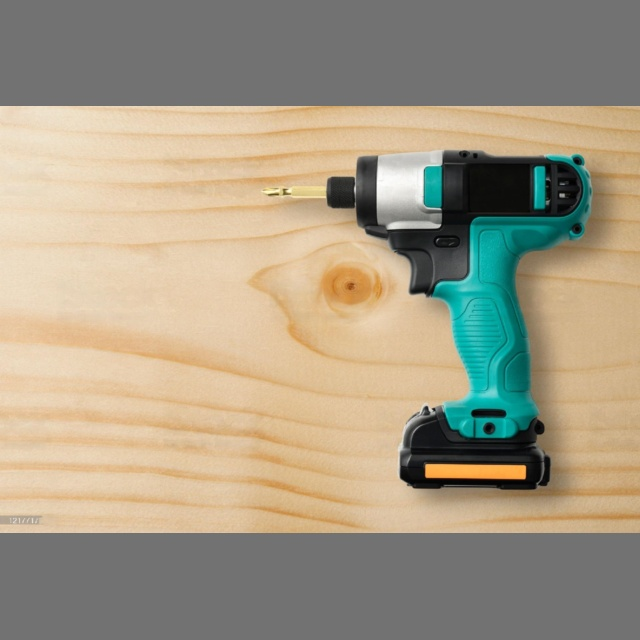drill: (263, 142, 596, 492)
